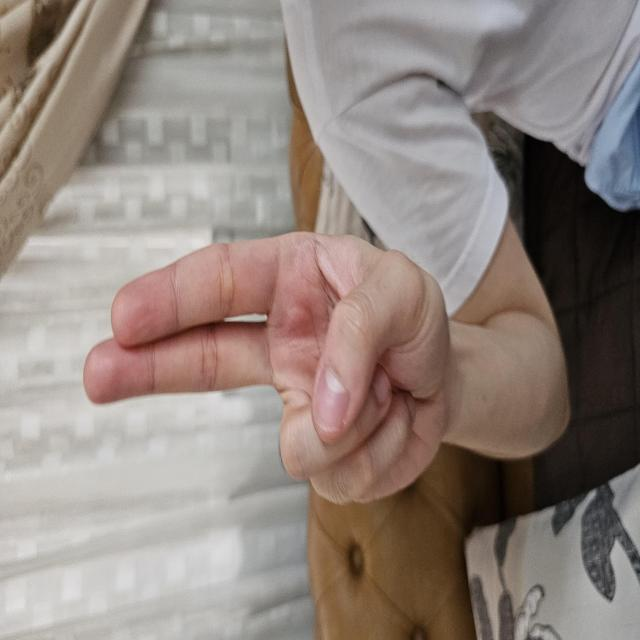U: (132, 81, 415, 454)
